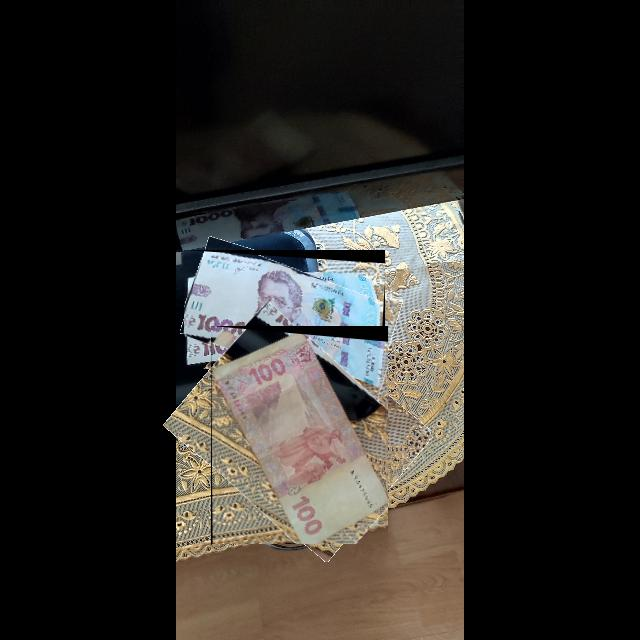1000uah: (184, 252, 384, 370)
100uah: (212, 333, 389, 545)
